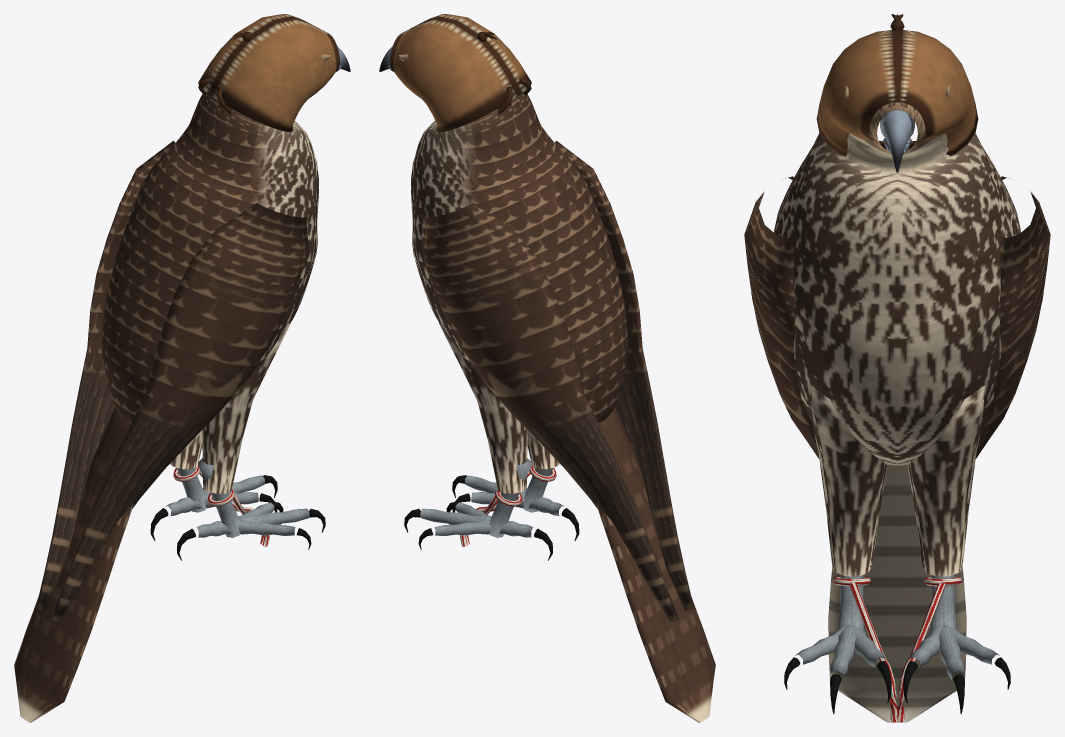
File: saker_fist.glb
The picture shows the model from 3 angles, left to right: view 1: azimuth 30°, elevation 25°; view 2: azimuth 150°, elevation 25°; view 3: azimuth 270°, elevation 25°; orthographic projection. The views are drawn at different scales.
Visible parts, largest first — view 1: saker_body, saker_hood, saker_jesses; view 2: saker_body, saker_hood, saker_jesses; view 3: saker_body, saker_hood, saker_jesses.
Part boxes in pixels (box(x1,y1,x2,y2)): saker_body: box(14, 46, 350, 722); saker_hood: box(198, 14, 339, 132); saker_jesses: box(173, 465, 269, 546); saker_body: box(379, 46, 715, 722); saker_hood: box(390, 14, 531, 132); saker_jesses: box(460, 465, 556, 546); saker_body: box(744, 85, 1050, 722); saker_hood: box(816, 14, 978, 156); saker_jesses: box(833, 576, 961, 722).
Bounding box in the file's own units: 0.2398 × 0.4473 × 0.146.
Materials: 1 (1 with a texture image).
